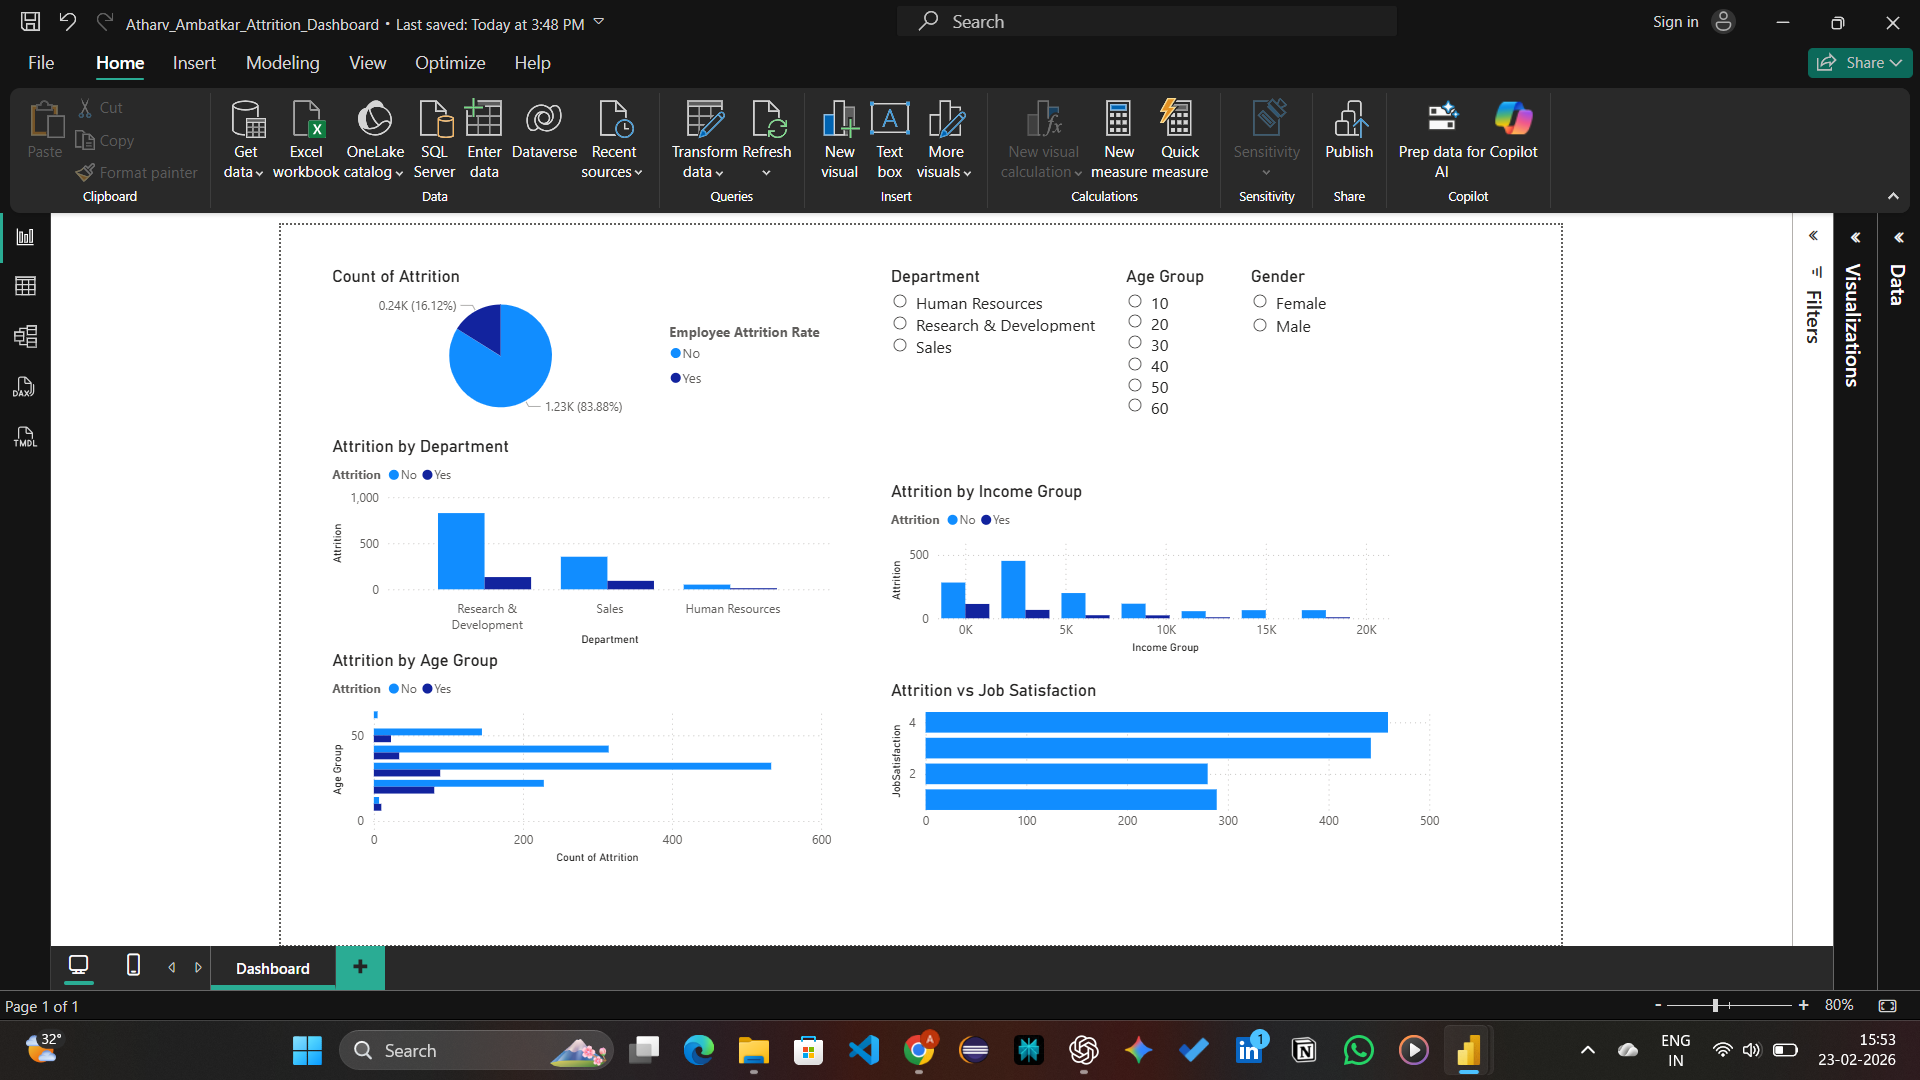

The page's visual inventory and layout, read from the dashboard file:
{"tool":"powerbi","page":{"name":"Page 1","canvas":[1280,720],"ordinal":0},"visuals":[{"type":"pieChart","title":"Count of Attrition ","fields":{"Category":["HR_Employee_Attrition.Attrition"],"Y":["CountNonNull(HR_Employee_Attrition.Attrition)"]},"box":[46.7,41.2,509.1,160.5],"z":0},{"type":"clusteredColumnChart","title":"Attrition by Department ","fields":{"Category":["HR_Employee_Attrition.Department"],"Y":["CountNonNull(HR_Employee_Attrition.Attrition)"],"Series":["HR_Employee_Attrition.Attrition"]},"box":[46.7,211.3,509.1,214.1],"z":1000},{"type":"listSlicer","fields":{"Values":["HR_Employee_Attrition.Department"]},"box":[605.1,41.2,234.6,205.8],"z":2000},{"type":"listSlicer","fields":{"Values":["HR_Employee_Attrition.Age Group"]},"box":[839.8,41.2,141.3,196.2],"z":3000},{"type":"listSlicer","fields":{"Values":["HR_Employee_Attrition.Gender"]},"box":[964.7,41.2,127.6,215.4],"z":4000},{"type":"clusteredBarChart","title":"Attrition by Age Group","fields":{"Category":["HR_Employee_Attrition.Age Group"],"Y":["CountNonNull(HR_Employee_Attrition.Attrition)"],"Series":["HR_Employee_Attrition.Attrition"]},"box":[46.7,425.4,509.1,218.2],"z":5000},{"type":"clusteredColumnChart","title":"Attrition by Income Group ","fields":{"Category":["HR_Employee_Attrition.Income Group"],"Y":["CountNonNull(HR_Employee_Attrition.Attrition)"],"Series":["HR_Employee_Attrition.Attrition"]},"box":[605.1,256.6,511.8,177],"z":6000},{"type":"clusteredBarChart","title":"Attrition vs Job Satisfaction","fields":{"Category":["HR_Employee_Attrition.JobSatisfaction"],"Y":["CountNonNull(HR_Employee_Attrition.Attrition)"]},"box":[605.1,455.6,558.5,159.2],"z":7000}]}

Visuals, with their boxes on the page's 1280x720 design canvas (x1, y1, x2, y2). These are canvas units, not pixel positions in the 1920x1080 screenshot, which may show the page scaled, cropped or inside an application window:
"Count of Attrition " pieChart: (left=47, top=41, right=556, bottom=202)
"Attrition by Department " clusteredColumnChart: (left=47, top=211, right=556, bottom=425)
listSlicer - HR_Employee_Attrition.Department: (left=605, top=41, right=840, bottom=247)
listSlicer - HR_Employee_Attrition.Age Group: (left=840, top=41, right=981, bottom=237)
listSlicer - HR_Employee_Attrition.Gender: (left=965, top=41, right=1092, bottom=257)
"Attrition by Age Group" clusteredBarChart: (left=47, top=425, right=556, bottom=644)
"Attrition by Income Group " clusteredColumnChart: (left=605, top=257, right=1117, bottom=434)
"Attrition vs Job Satisfaction" clusteredBarChart: (left=605, top=456, right=1164, bottom=615)
